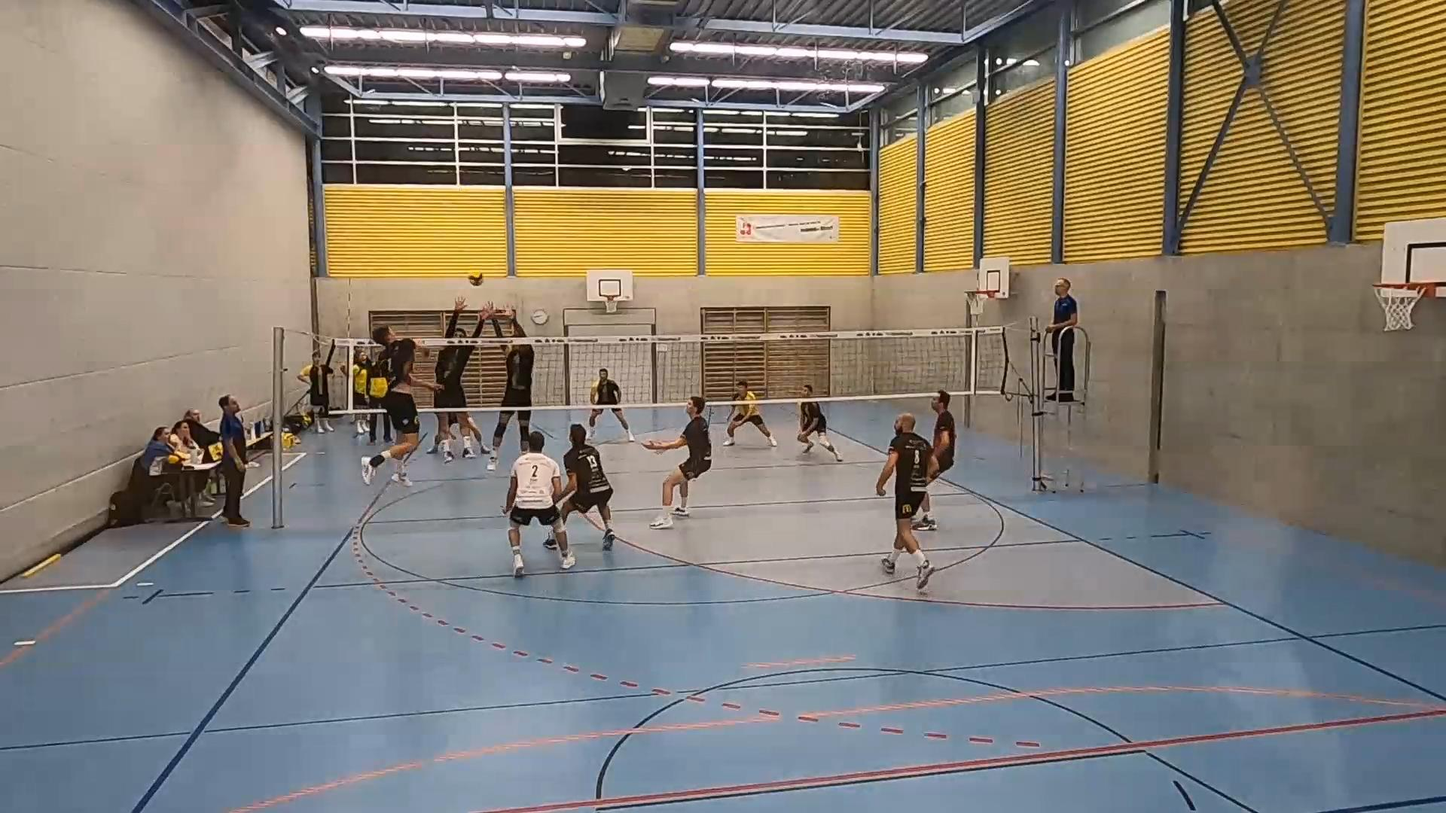Attack: (348, 322, 447, 482)
Block: (426, 294, 484, 468), (485, 301, 534, 473)
Player: (876, 414, 935, 589), (505, 431, 575, 577), (643, 396, 711, 528), (561, 424, 615, 550), (723, 380, 776, 446), (588, 368, 635, 441), (798, 385, 840, 461), (929, 391, 955, 483)
ball: (469, 271, 487, 283)
